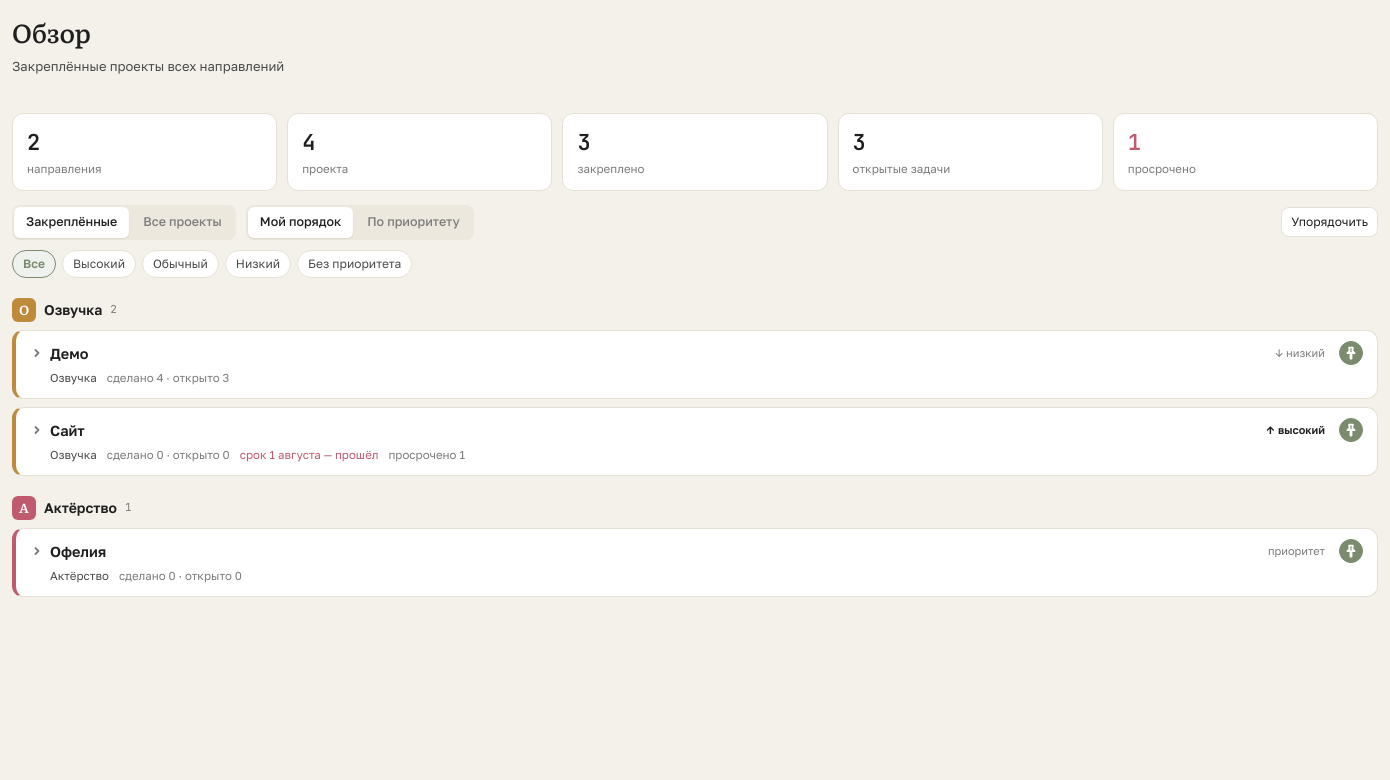
обзор › переключатель «Все проекты» показывает и незакреплённые
expect the text "Демо" is shown: met, box [50, 342, 88, 364]
Click the button "Все проекты" at (183, 222), box [131, 207, 234, 238]
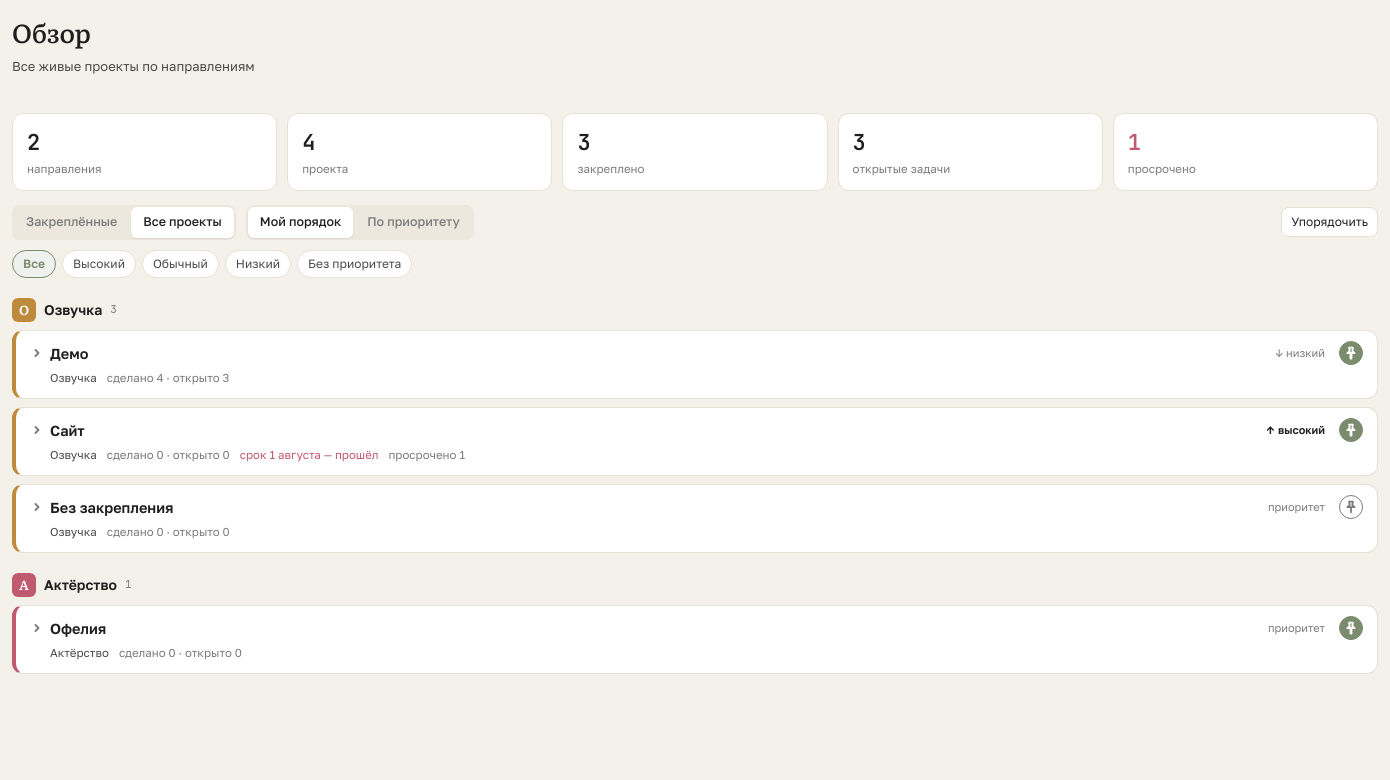
expect the text "Без закрепления" is shown: met, box [50, 496, 174, 518]
